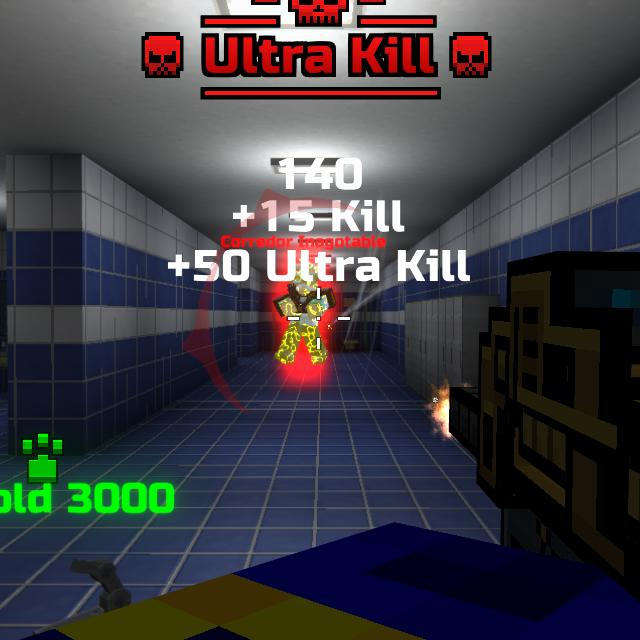Enemy: (273, 264, 336, 368)
